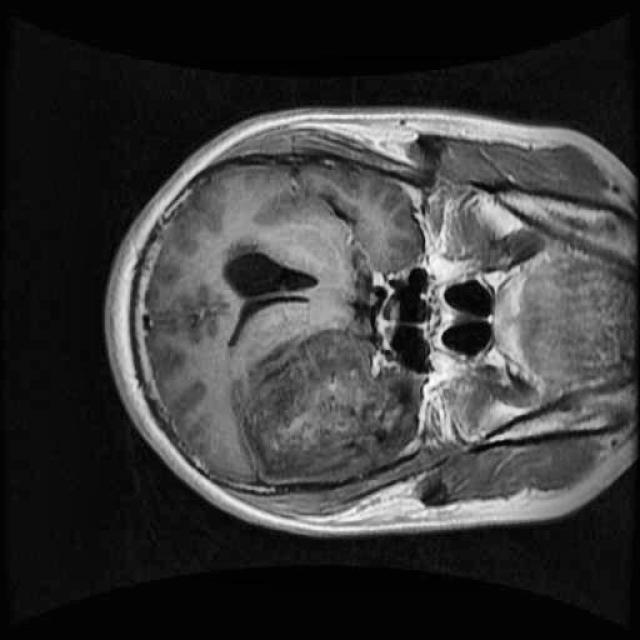Tumor: (216, 308, 437, 516)
